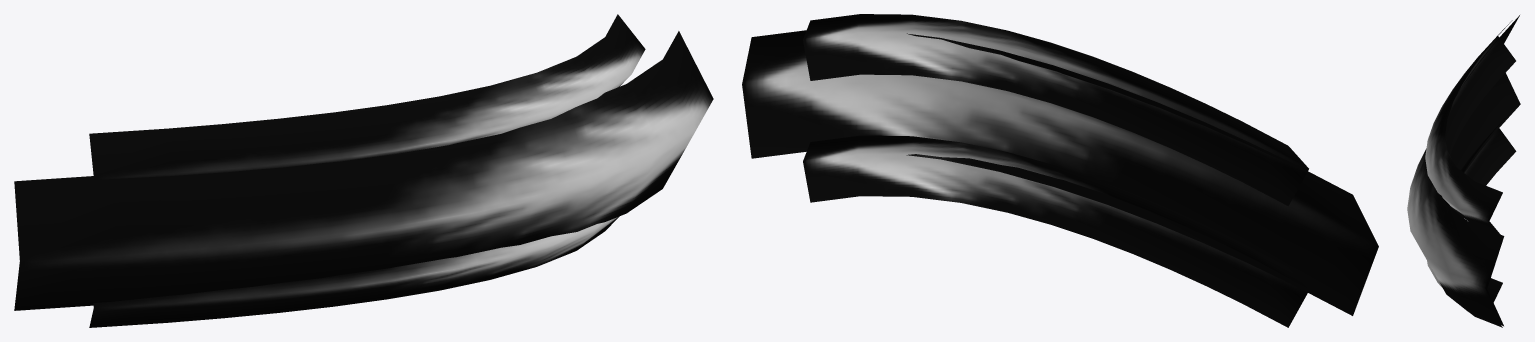
The model's file is EffCommonScratch.obj.
The picture shows the model from 3 angles, left to right: view 1: azimuth 30°, elevation 25°; view 2: azimuth 150°, elevation 25°; view 3: azimuth 270°, elevation 25°; orthographic projection. The views are drawn at different scales.
Visible parts, largest first — view 1: polygon0; view 2: polygon0; view 3: polygon0.
Boxes of the visible parts, bbox=[...] form: polygon0: bbox=[14, 14, 713, 327]; polygon0: bbox=[742, 14, 1378, 327]; polygon0: bbox=[1407, 15, 1520, 327].
Bounding box in the file's own units: 22.17 × 6 × 4.56.
1 material, 1 textured.
